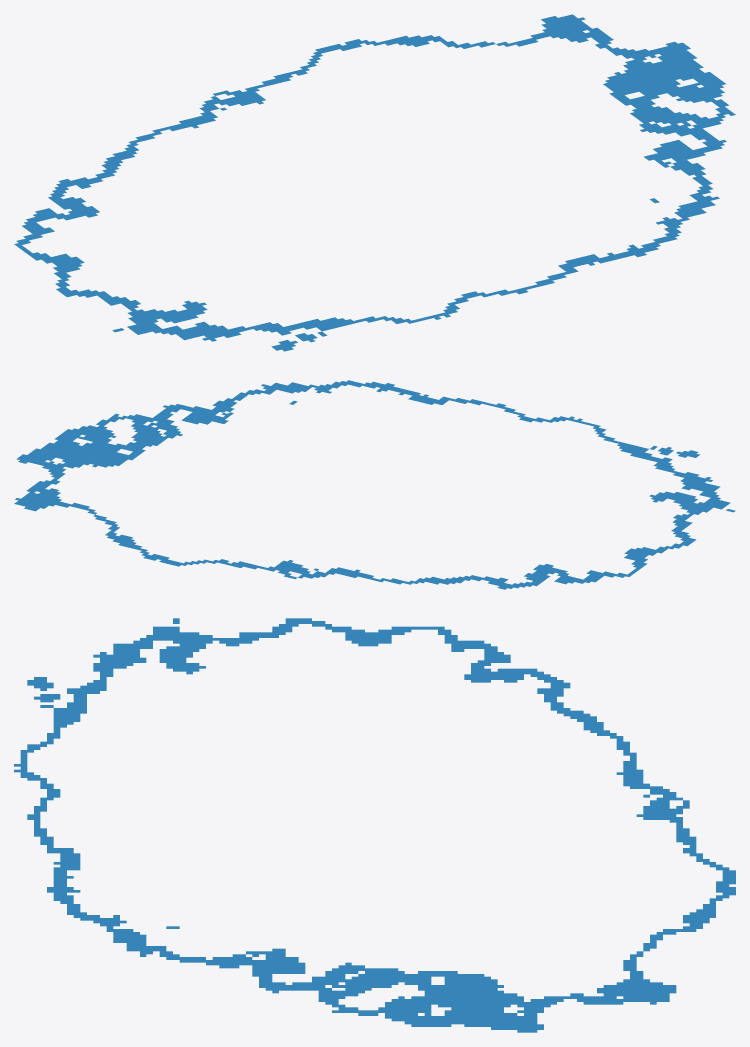
File: Isl-bot3-PlaceForWaterObjects.fbx
The picture shows the model from 3 angles, top to bottom: view 1: azimuth 30°, elevation 25°; view 2: azimuth 150°, elevation 25°; view 3: azimuth 270°, elevation 25°; orthographic projection. The views are drawn at different scales.
Parts seen in each view (by area): view 1: Isl-bot3-PlaceForWaterObjects; view 2: Isl-bot3-PlaceForWaterObjects; view 3: Isl-bot3-PlaceForWaterObjects.
Boxes of the visible parts, left/top/right/bottom form: Isl-bot3-PlaceForWaterObjects: left=14, top=14, right=735, bottom=351; Isl-bot3-PlaceForWaterObjects: left=14, top=380, right=735, bottom=589; Isl-bot3-PlaceForWaterObjects: left=14, top=618, right=735, bottom=1032.
Bounding box in the file's own units: 148 × 0 × 109.
